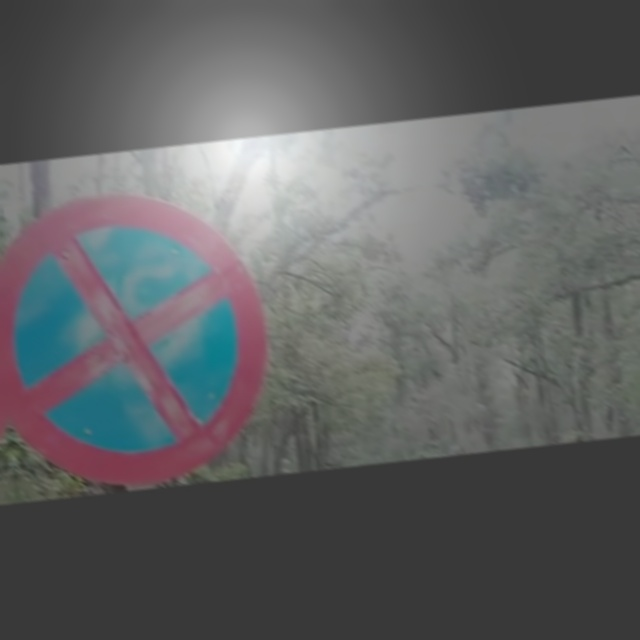No_Stopping_or_Standing: (1, 198, 266, 466)
